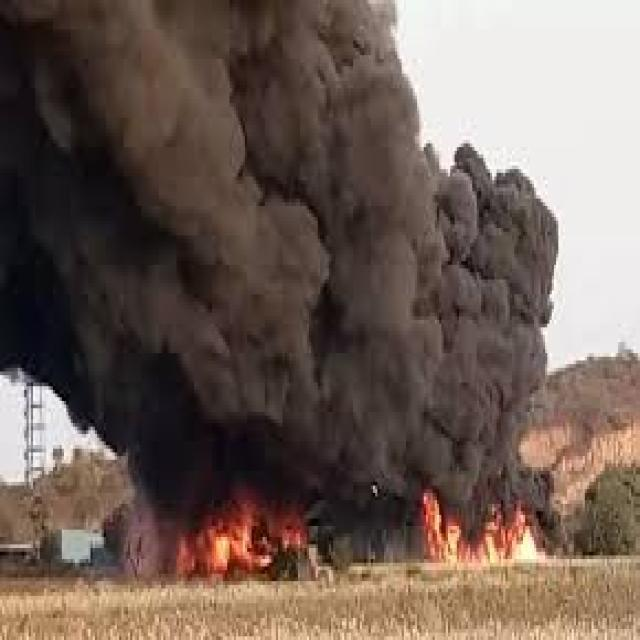Fire: (182, 484, 306, 580), (420, 490, 541, 565)
Smoke: (0, 0, 393, 388), (395, 63, 559, 488), (60, 390, 396, 485)
